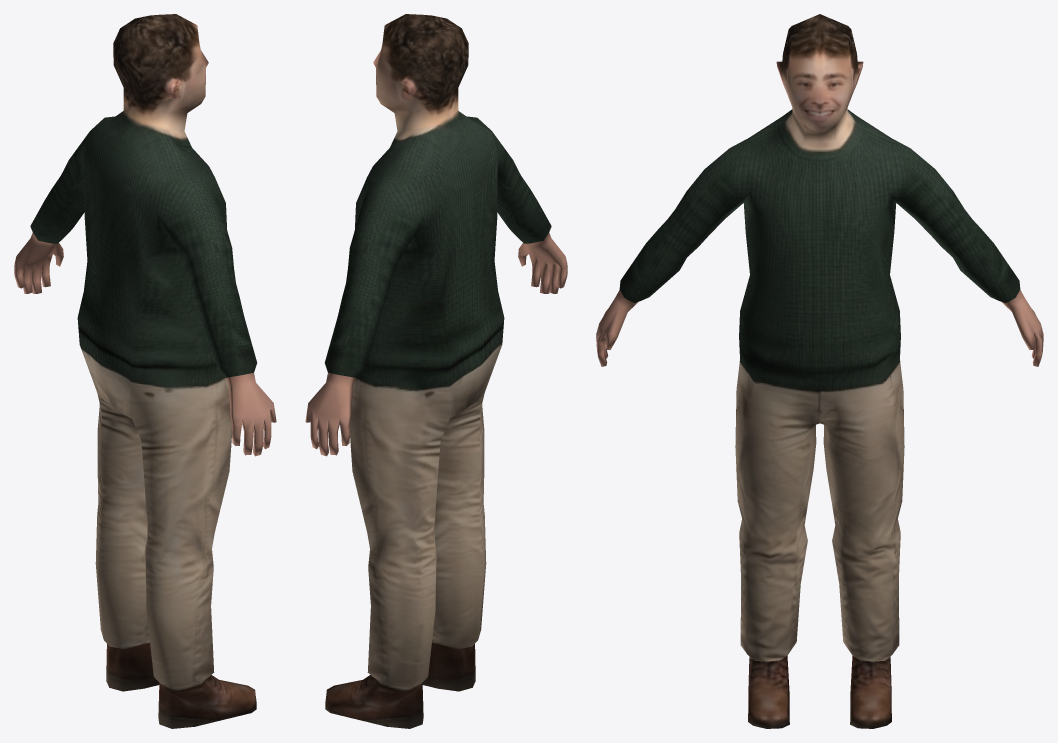
Rendered from Character_Male_41.fbx.
3 renders of one model, left to right at view 1: azimuth 30°, elevation 25°; view 2: azimuth 150°, elevation 25°; view 3: azimuth 270°, elevation 25°, orthographic.
Visible parts, largest first — view 1: Character_Male_41; view 2: Character_Male_41; view 3: Character_Male_41.
Part boxes in pixels (left/top/right/bottom): Character_Male_41: left=14, top=14, right=276, bottom=728; Character_Male_41: left=305, top=14, right=567, bottom=728; Character_Male_41: left=596, top=14, right=1043, bottom=728.
Bounding box in the file's own units: 0.3423 × 1.73 × 1.04.
